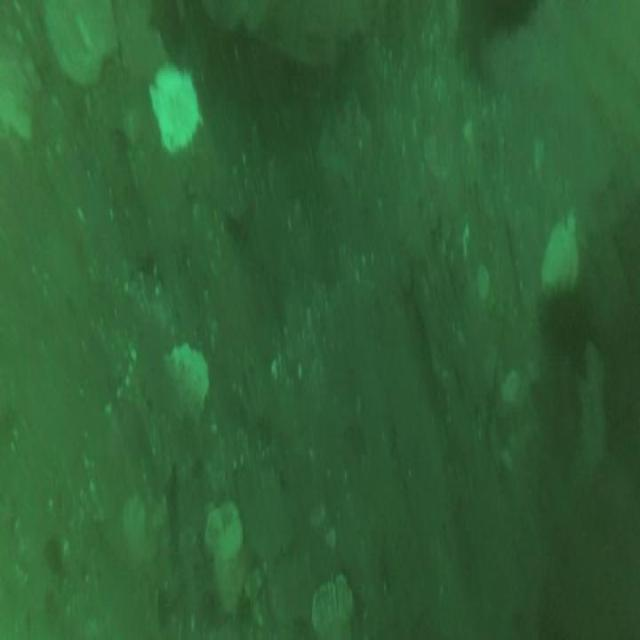echinus: (536, 283, 589, 382)
scallop: (41, 5, 117, 93), (146, 57, 200, 161)
